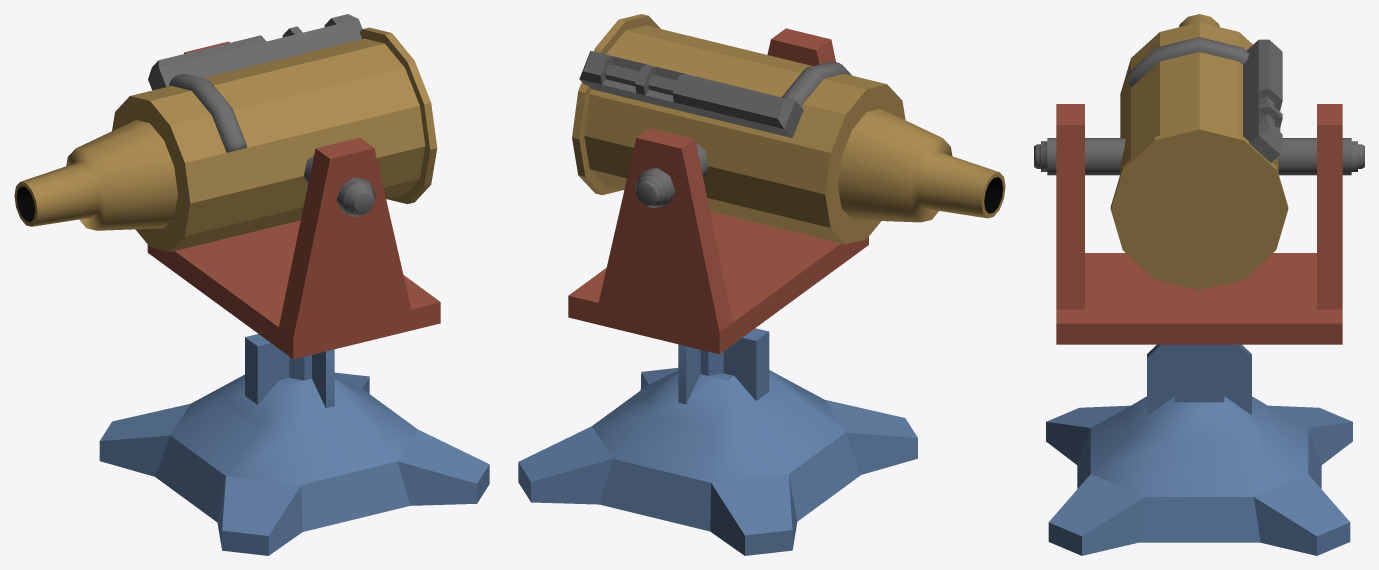
Rendered from Pulse Turret.fbx.
3 renders of one model, left to right at view 1: azimuth 30°, elevation 25°; view 2: azimuth 150°, elevation 25°; view 3: azimuth 270°, elevation 25°, orthographic. The views are drawn at different scales.
Parts seen in each view (by area): view 1: Pulse Turret; view 2: Pulse Turret; view 3: Pulse Turret.
Part boxes in pixels (x1,y1,x2,y2): Pulse Turret: (14, 14, 489, 555); Pulse Turret: (518, 14, 1005, 555); Pulse Turret: (1034, 14, 1364, 555).
Size of the model in its own units: 958 by 945 by 693.
